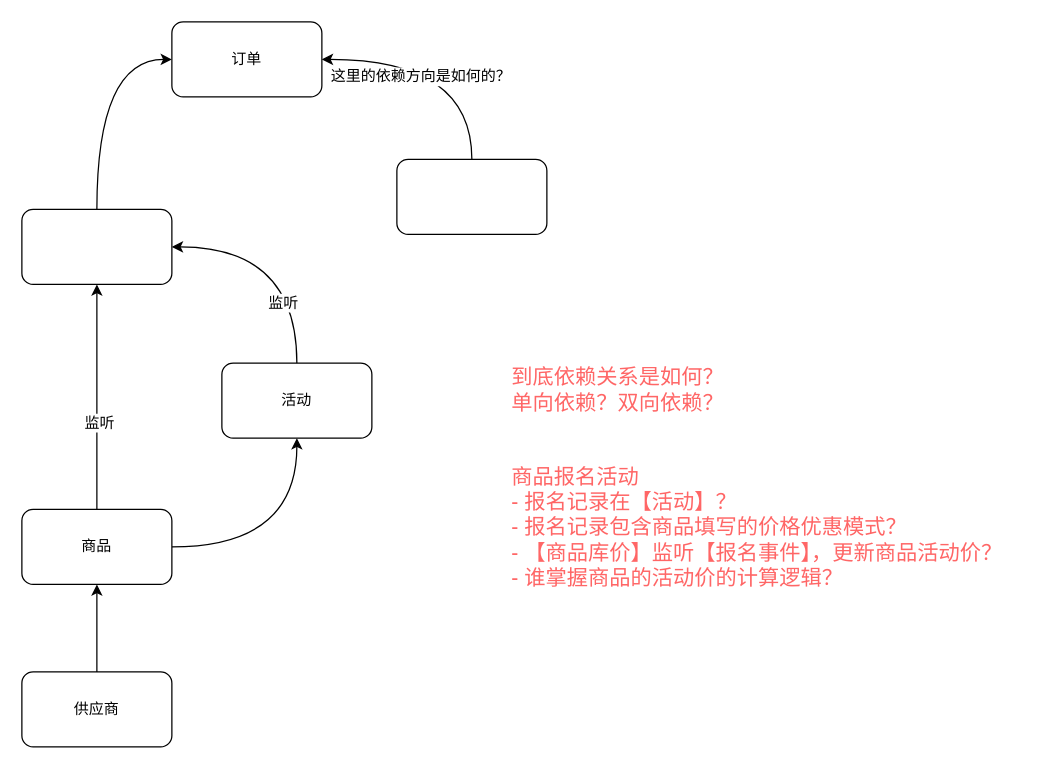
The diagram is 1056 pixels wide and 769 high, and some of its shapes have lost their labels. The shapes that lost their labels are listed below. From the top down, each one's centre as x and y in pixels, then its label:
At (471,196): "物流".
At (96,246): "商品价格/库存".
